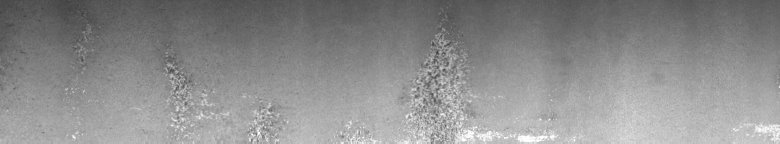hc: (344, 13, 503, 136)
